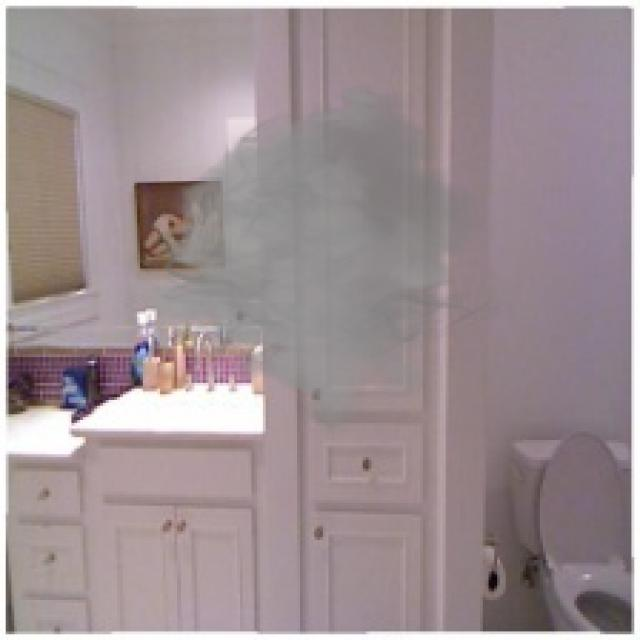smoke: (129, 83, 514, 434)
